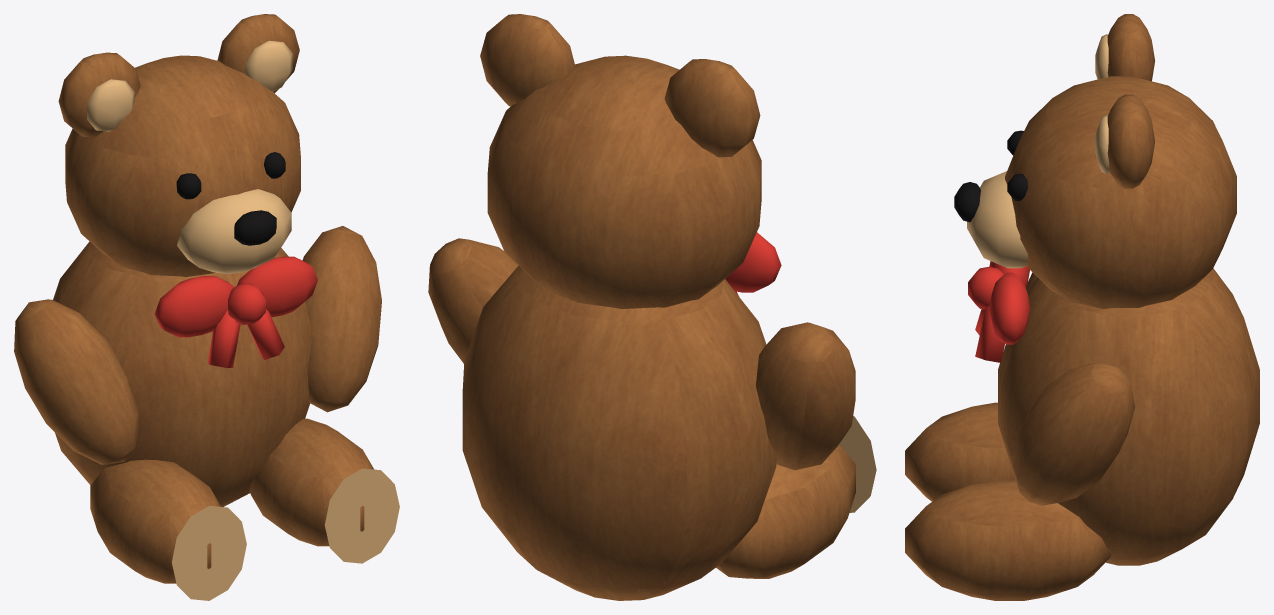
Rendered from teddy_bear.glb.
3 views of the same model, side by side, from view 1: azimuth 30°, elevation 25°; view 2: azimuth 150°, elevation 25°; view 3: azimuth 270°, elevation 25° (orthographic). The views are drawn at different scales.
Parts seen in each view (by area): view 1: model; view 2: model; view 3: model.
Part boxes in pixels (box(x1,y1,x2,y2)): model: box(14, 14, 399, 600); model: box(428, 14, 876, 600); model: box(905, 14, 1259, 600).
Size of the model in its own units: 0.2688 by 0.3462 by 0.2231.
Materials: 4 (1 with a texture image).
